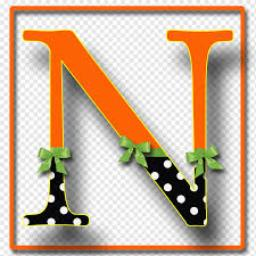n: (20, 22, 236, 234)
